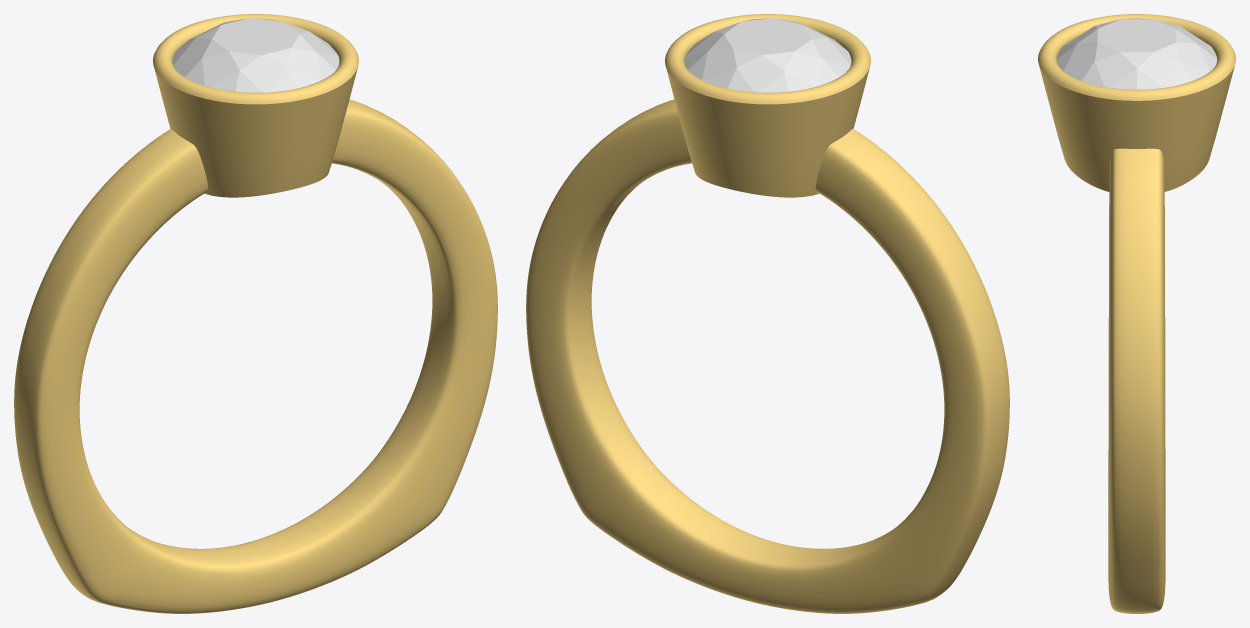
The model's file is diamond-round-yellowgold-bezelset-europeanshank-nosidestones.glb.
3 views of the same model, side by side, from view 1: azimuth 30°, elevation 25°; view 2: azimuth 150°, elevation 25°; view 3: azimuth 270°, elevation 25° (orthographic). The views are drawn at different scales.
Parts seen in each view (by area): view 1: Round European shank bezel, Roundstone; view 2: Round European shank bezel, Roundstone; view 3: Round European shank bezel, Roundstone.
Part boxes in pixels (<box>): Round European shank bezel: <box>14,14,497,613</box>; Roundstone: <box>172,18,339,92</box>; Round European shank bezel: <box>526,14,1009,613</box>; Roundstone: <box>684,18,851,92</box>; Round European shank bezel: <box>1038,14,1235,613</box>; Roundstone: <box>1056,18,1217,89</box>.
Bounding box in the file's own units: 20.71 × 23.81 × 7.94.
